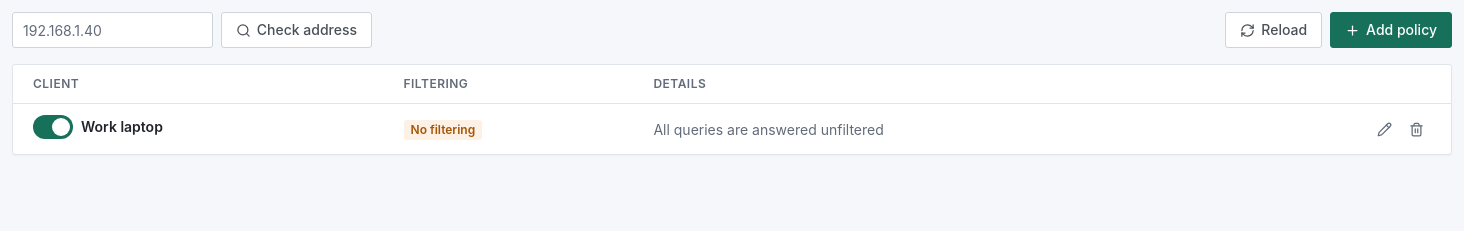
Test: shows which policy applies to an address
Expected: the text "Work laptop" is shown, [81, 116, 163, 137]
Type "192.168.1.50" into the field named "Check address" at [112, 30], box [12, 12, 213, 48]
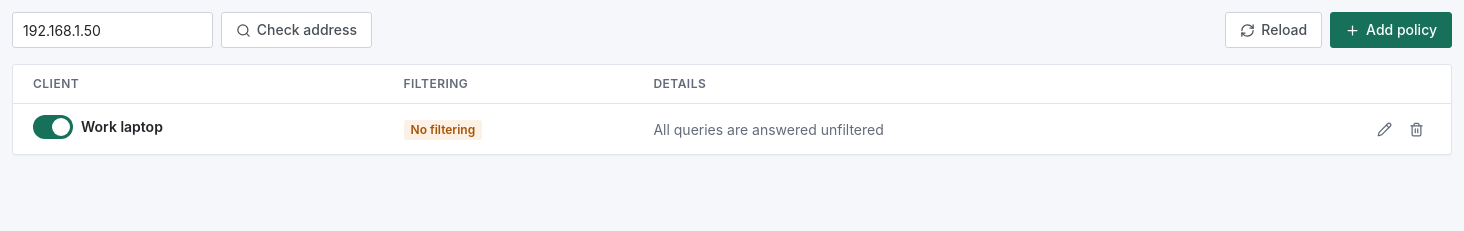
Click the button "Check address" at [296, 30], box [221, 12, 372, 48]
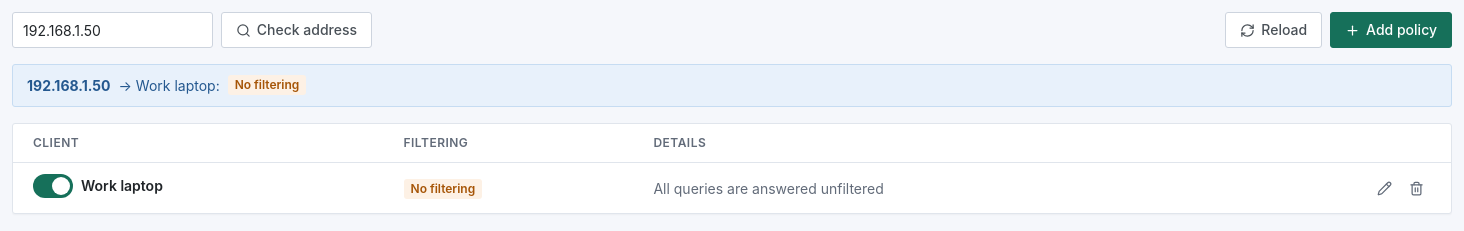
Result: the text "192.168.1.50 → Work laptop: No filtering" is shown at [12, 64, 1452, 107]
